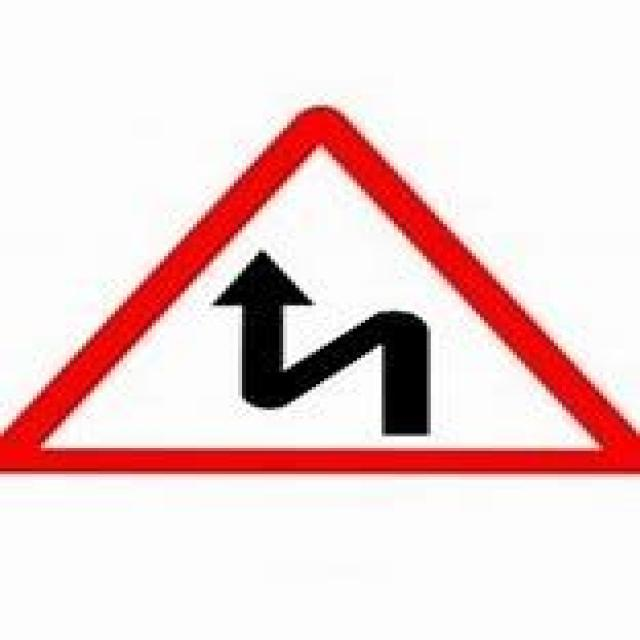left reverse bend: (43, 97, 610, 468)
